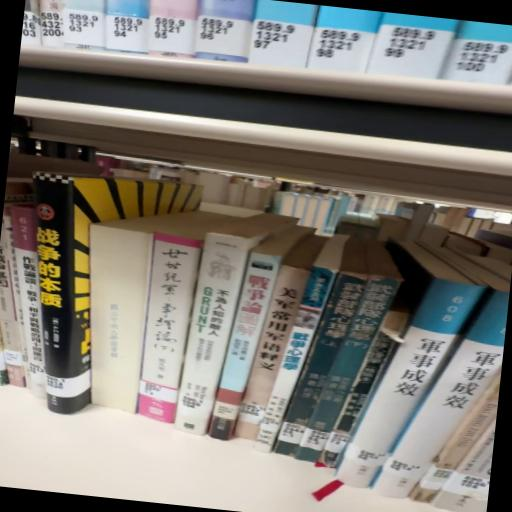backward: (70, 216, 156, 420)
book: (271, 266, 406, 476), (4, 176, 110, 422), (208, 228, 306, 448), (254, 228, 340, 458), (174, 226, 258, 440), (128, 228, 202, 426)
